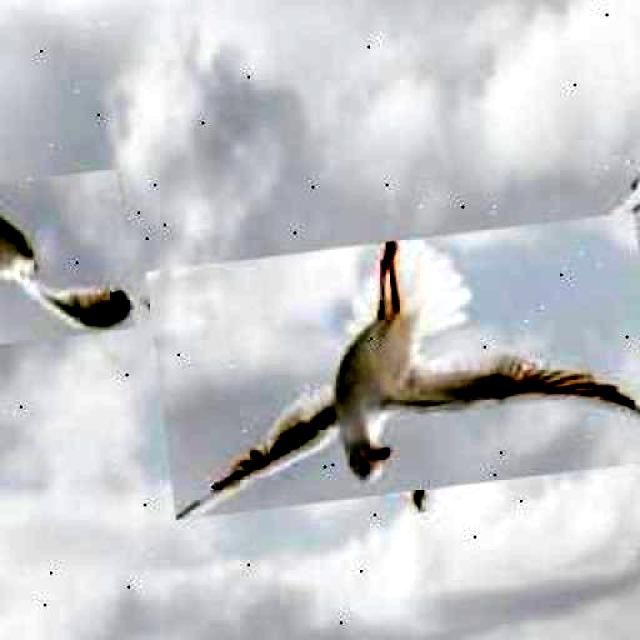airplane: (145, 211, 640, 519), (0, 169, 136, 369)
